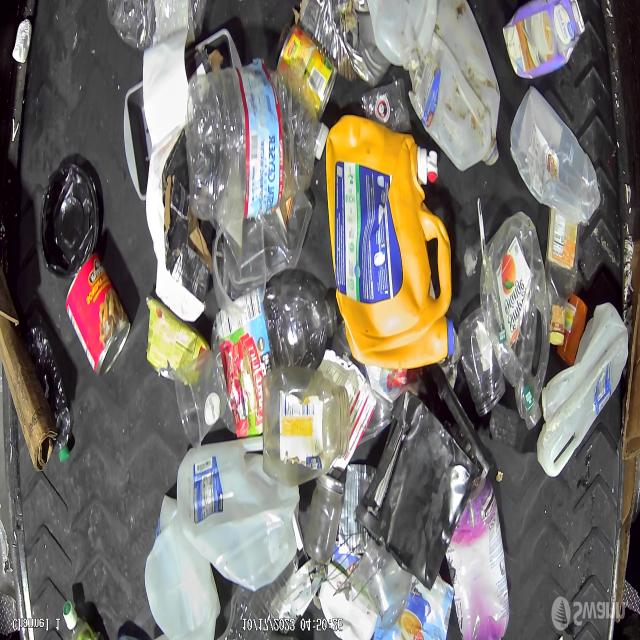can: (67, 253, 133, 375), (12, 21, 34, 66)
milk_jug: (177, 438, 301, 588), (534, 299, 632, 481), (508, 81, 604, 228), (410, 18, 500, 172), (143, 502, 221, 640), (369, 0, 437, 70)
non_white_jug: (334, 152, 451, 372), (504, 1, 586, 79)
plastic_bottle: (185, 60, 327, 217), (216, 285, 331, 433), (479, 208, 553, 434), (26, 321, 73, 462), (106, 1, 208, 48)
